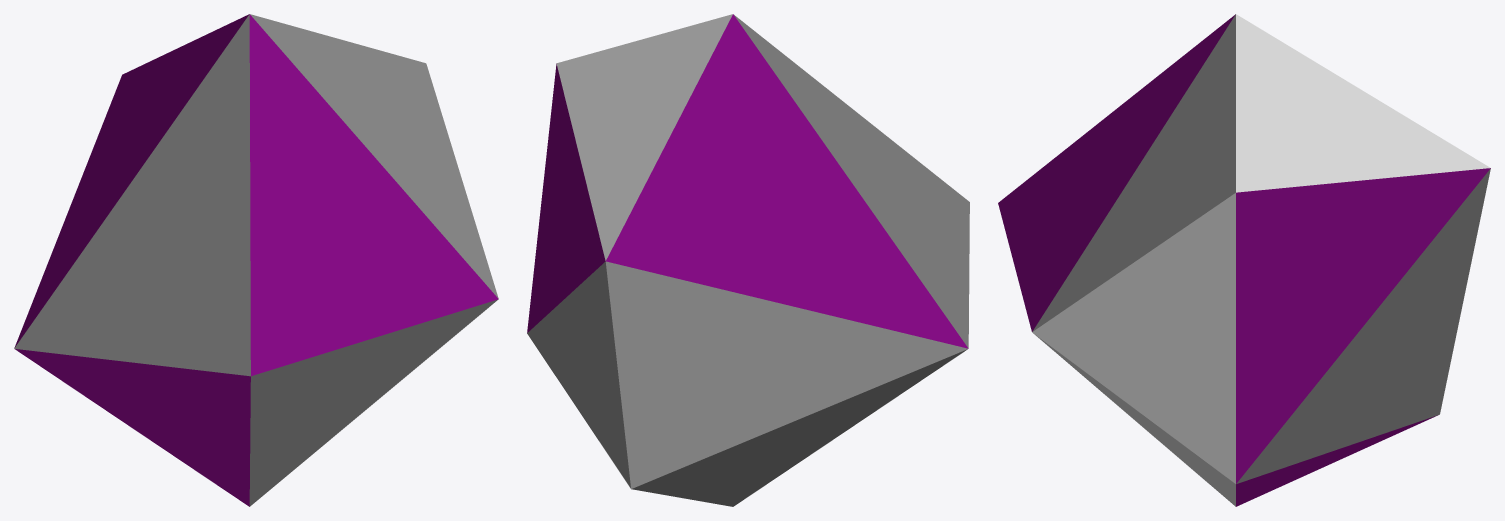
File: rockhermit.obj
3 renders of one model, left to right at view 1: azimuth 30°, elevation 25°; view 2: azimuth 150°, elevation 25°; view 3: azimuth 270°, elevation 25°, orthographic.
Size of the model in its own units: 150 by 160 by 145.
